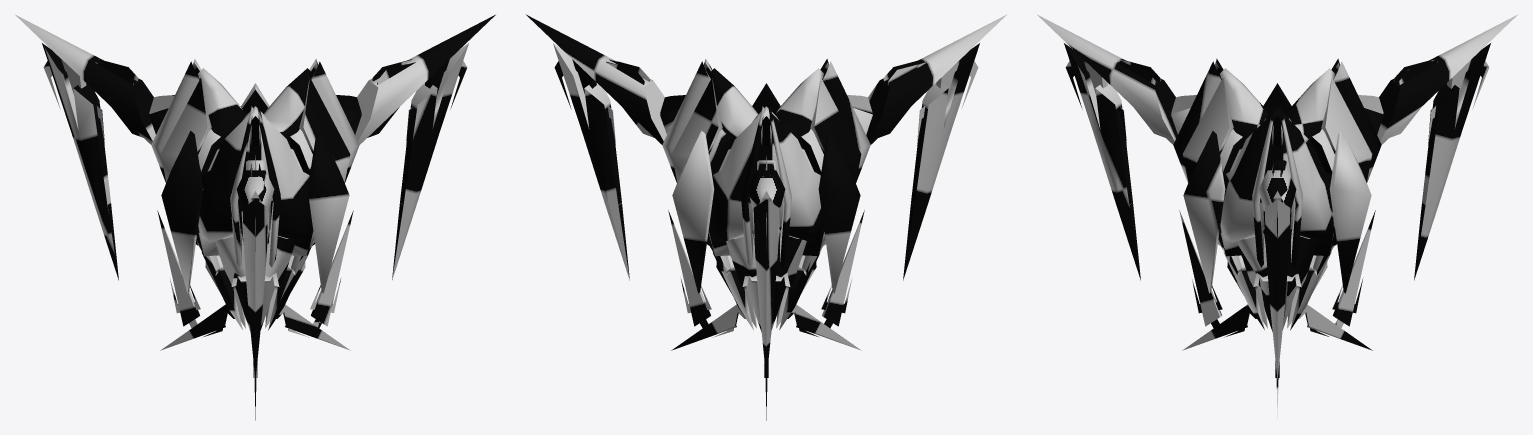
The model's file is devourer.obj.
3 views of the same model, side by side, from view 1: azimuth 30°, elevation 25°; view 2: azimuth 150°, elevation 25°; view 3: azimuth 270°, elevation 25° (orthographic).
Visible parts, largest first — view 1: devourer; view 2: devourer; view 3: devourer.
Boxes of the visible parts, x1=… form: devourer: x1=15, y1=14, x2=495, y2=420; devourer: x1=526, y1=14, x2=1006, y2=420; devourer: x1=1037, y1=14, x2=1517, y2=418.
Size of the model in its own units: 429 by 341 by 495.
Materials: 1 (1 with a texture image).
